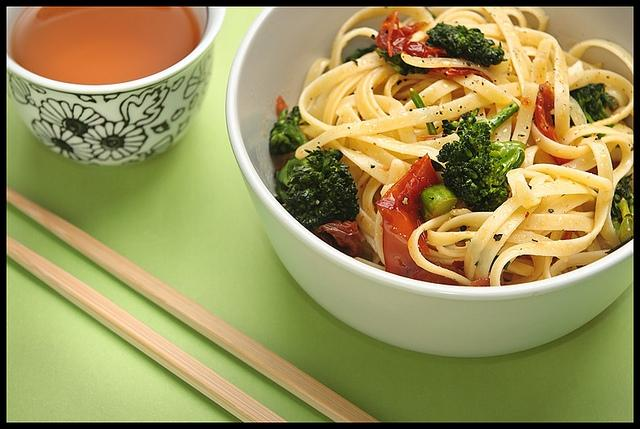broccoli: (274, 146, 359, 232), (436, 134, 527, 212), (425, 22, 508, 68), (551, 84, 619, 138), (270, 106, 310, 156), (610, 174, 634, 242), (374, 47, 430, 76), (410, 88, 438, 135), (421, 186, 457, 216), (343, 44, 378, 62)
green onion: (419, 183, 458, 222), (410, 88, 438, 135), (620, 218, 634, 242)
tomato: (376, 152, 440, 245), (376, 11, 443, 58), (310, 219, 362, 258), (534, 81, 558, 142)
